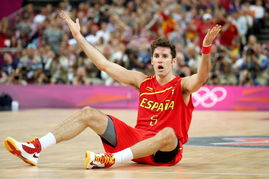down: (4, 10, 222, 170)
